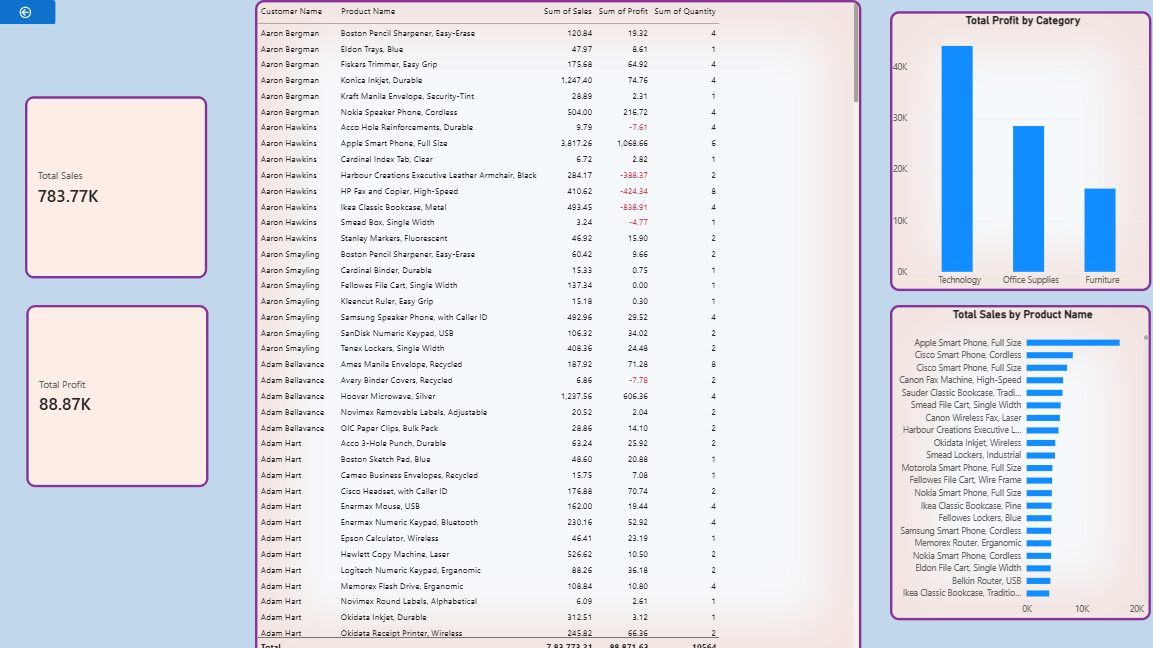

Layout of this report page (visuals, bound fields, positions):
{"tool":"powerbi","page":{"name":"Region Details","canvas":[1920,1080],"ordinal":1},"visuals":[{"type":"actionButton","box":[0,0,100,40],"z":0},{"type":"cardVisual","fields":{"Data":["Orders.Total Sales"]},"box":[49.4,158.5,300,300],"z":1000},{"type":"cardVisual","fields":{"Data":["Orders.Total Profit"]},"box":[51.5,502.2,300,300],"z":2000},{"type":"barChart","fields":{"Category":["Orders.Product Name"],"Y":["Orders.Total Sales"]},"box":[1473.8,502.2,429.8,519.6],"z":3000},{"type":"columnChart","fields":{"Category":["Orders.Category"],"Y":["Orders.Total Profit"]},"box":[1473.8,18.5,430.2,461.1],"z":4000},{"type":"tableEx","fields":{"Values":["Orders.Customer Name","Orders.Product Name","Sum(Orders.Sales)","Sum(Orders.Profit)","Sum(Orders.Quantity)"]},"box":[428.1,0,998.3,1080.6],"z":5000}]}

Visuals, with their boxes in screenshot pixels (x1, y1, x2, y2):
actionButton: select_region(0, 0, 46, 25)
cardVisual - Orders.Total Sales: select_region(15, 97, 200, 282)
cardVisual - Orders.Total Profit: select_region(17, 308, 201, 493)
barChart - Orders.Product Name x Orders.Total Sales: select_region(890, 308, 1152, 627)
columnChart - Orders.Category x Orders.Total Profit: select_region(890, 11, 1152, 294)
tableEx - Orders.Customer Name x Orders.Product Name: select_region(248, 0, 861, 647)
